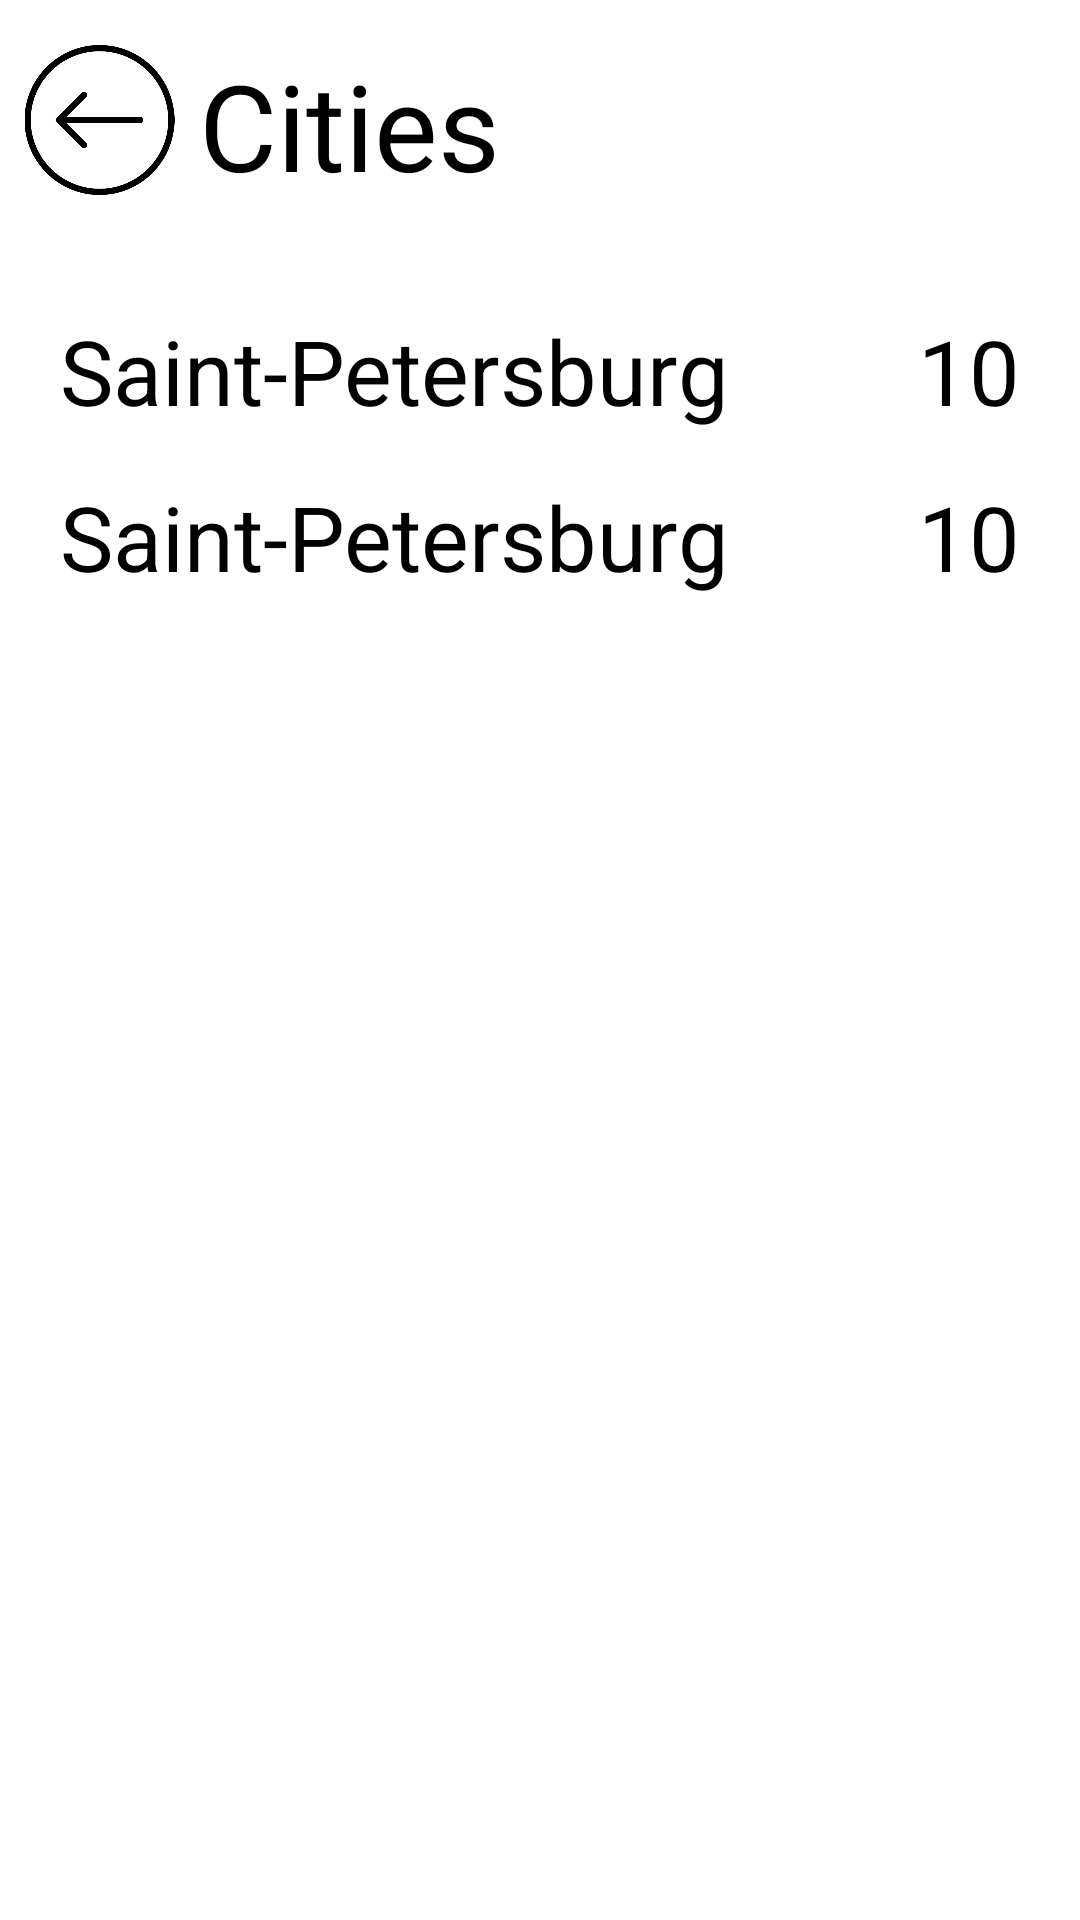

Icon bounding boxes for this 1080px×1920px phone screenshot, format (x1, y1, x2, y2):
back: (25, 45, 175, 195)
